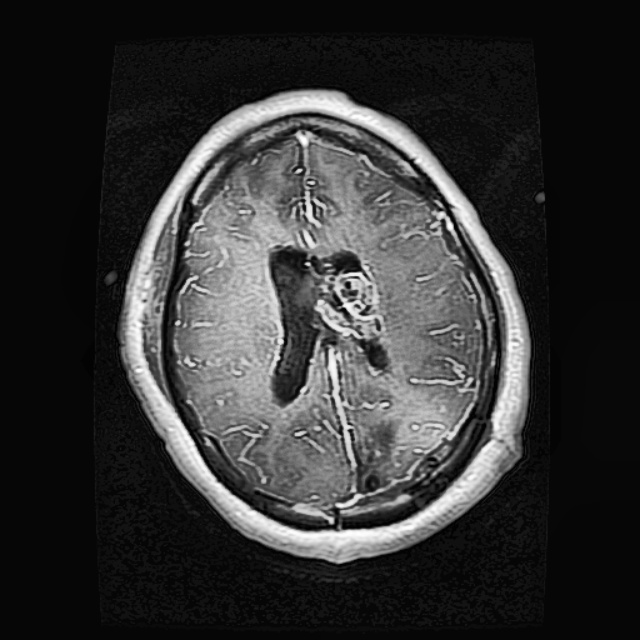Glioma: (312, 264, 390, 372)
